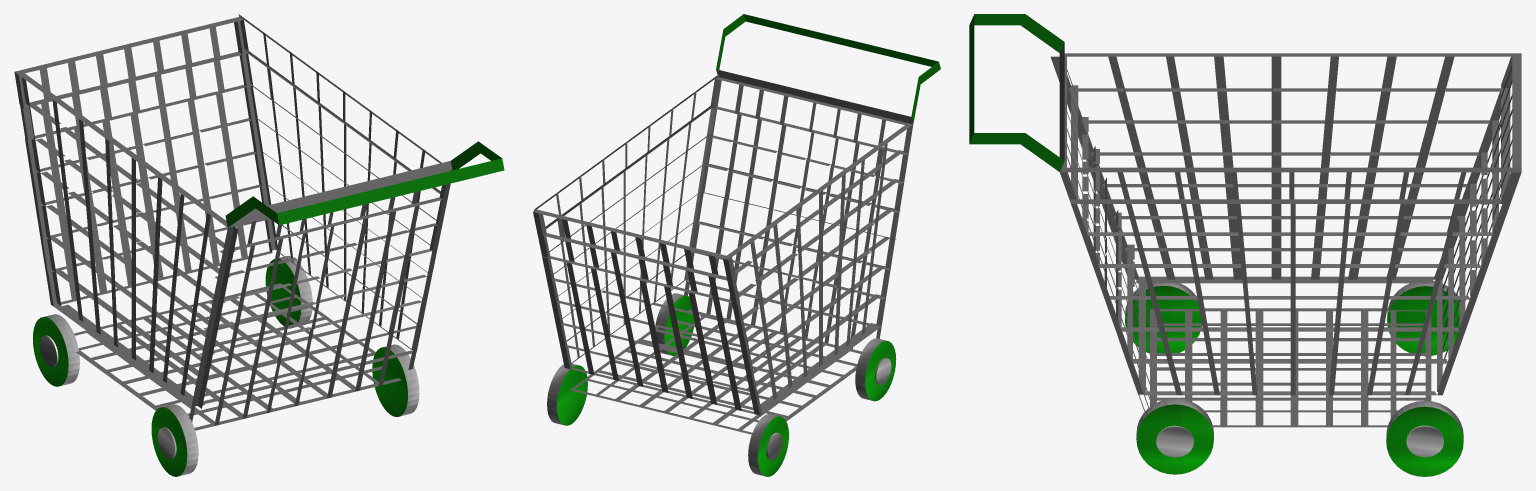
The model's file is carritoS.obj.
The picture shows the model from 3 angles, left to right: view 1: azimuth 30°, elevation 25°; view 2: azimuth 150°, elevation 25°; view 3: azimuth 270°, elevation 25°; orthographic projection. The views are drawn at different scales.
Visible parts, largest first — view 1: Cilindro.011; view 2: Cilindro.011; view 3: Cilindro.011.
Part boxes in pixels (x1,y1,x2,y2): Cilindro.011: (14, 14, 504, 476); Cilindro.011: (533, 14, 940, 476); Cilindro.011: (969, 14, 1521, 476).
Size of the model in its own units: 2.24 by 2.72 by 3.92.
5 materials, 5 textured.
